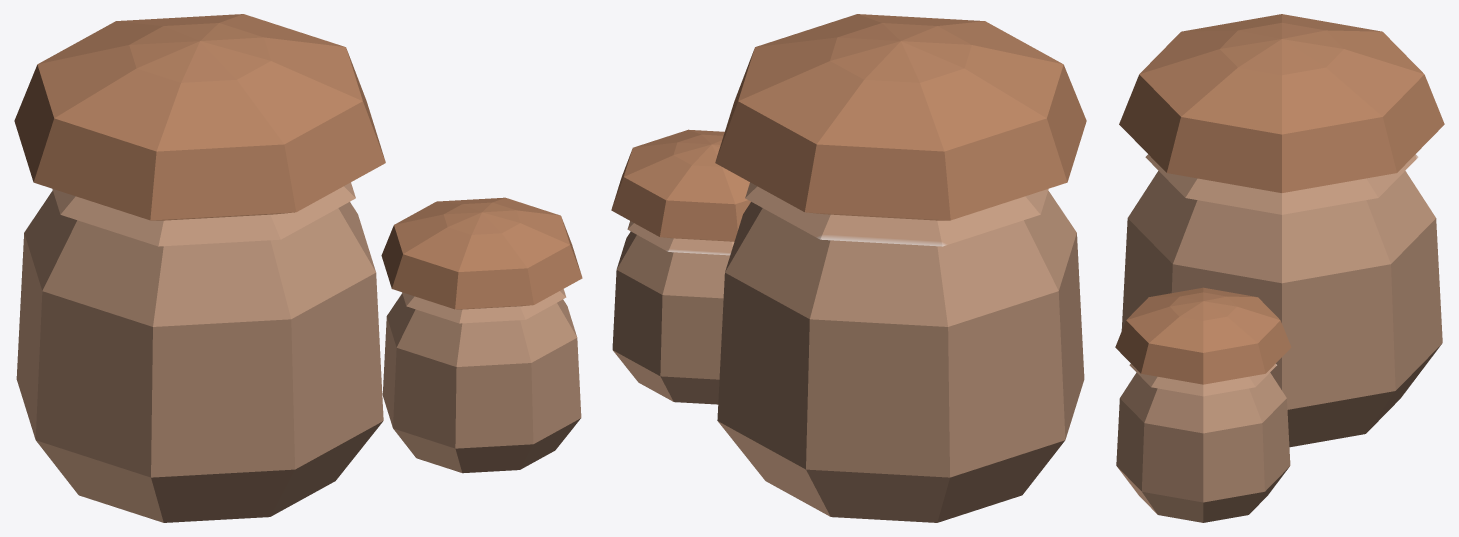
Rendered from Mushroom_16.fbx.
3 renders of one model, left to right at view 1: azimuth 30°, elevation 25°; view 2: azimuth 150°, elevation 25°; view 3: azimuth 270°, elevation 25°, orthographic. The views are drawn at different scales.
Parts seen in each view (by area): view 1: Mushroom_16; view 2: Mushroom_16; view 3: Mushroom_16.
Part boxes in pixels (left/top/right/bottom): Mushroom_16: left=14, top=14, right=582, bottom=522; Mushroom_16: left=611, top=14, right=1086, bottom=522; Mushroom_16: left=1115, top=14, right=1444, bottom=522.
Bounding box in the file's own units: 56.01 × 46.16 × 38.36.
